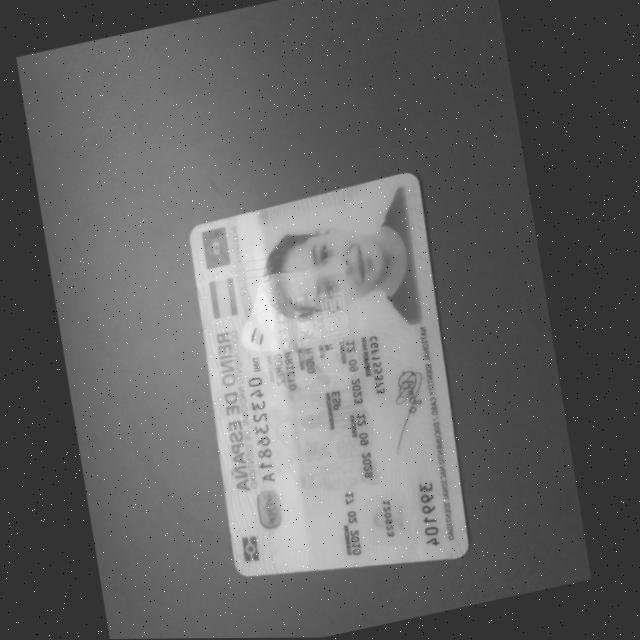card: (190, 174, 467, 576)
